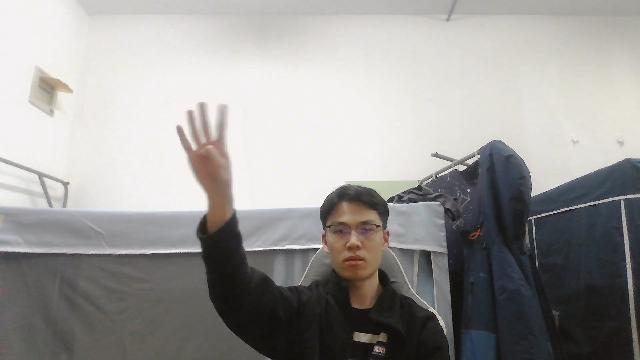four: (172, 96, 239, 211)
